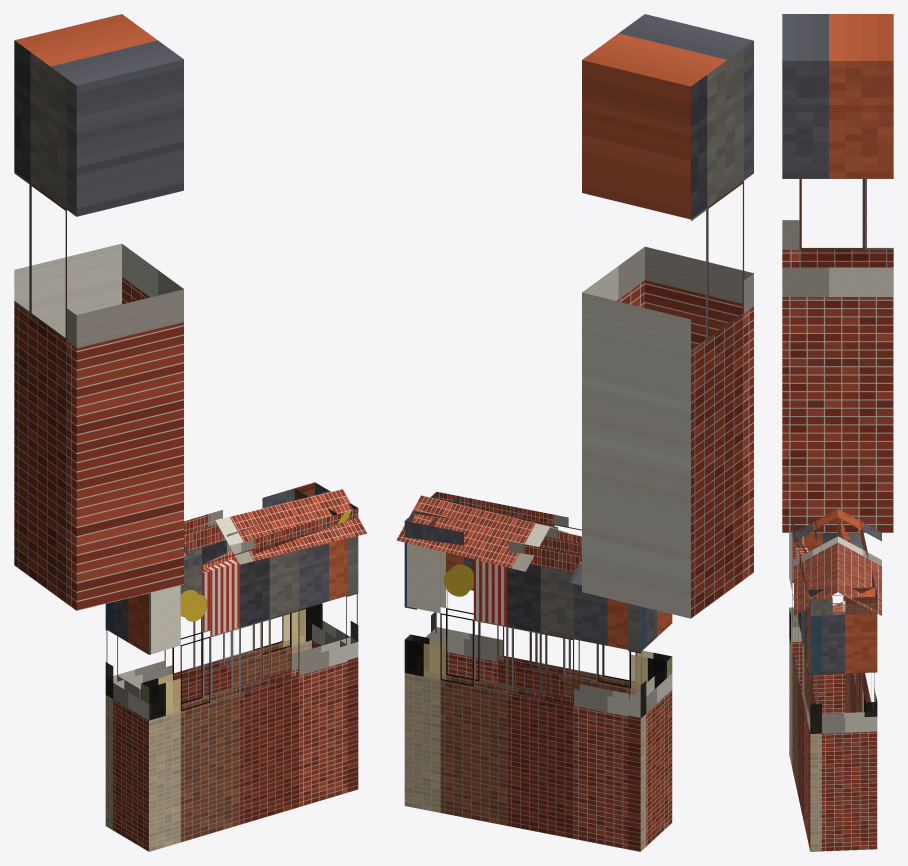
The picture shows the model from 3 angles, left to right: view 1: azimuth 30°, elevation 25°; view 2: azimuth 150°, elevation 25°; view 3: azimuth 270°, elevation 25°; orthographic projection. The views are drawn at different scales.
Visible parts, largest first — view 1: 238563126__chimney_0_xb, 238563126__wall_1_xb, 238563126__wall_3_xb, 238563126__wall_0_xb, 238563126_roof_-1_xb, 238563126__wall_2_xb, 238563126__cornice_1, 238563126__cornice_3, 238563126__wall_1_xf, 238563126__wall_3_xf; view 2: 238563126__chimney_0_xb, 238563126__wall_3_xb, 238563126__wall_1_xb, 238563126__wall_0_xb, 238563126_roof_1_xb, 238563126__cornice_3, 238563126__wall_3_xf, 238563126__cornice_1, 238563126__wall_1_xf; view 3: 238563126__chimney_0_xb, 238563126__wall_2_xb, 238563126__wall_1_xb, 238563126_roof_-1_xb, 238563126_roof_1_xb, 238563126__wall_0_xb, 238563126__wall_3_xb, 238563126__wall_1_xf, 238563126__cornice_2, 238563126__cornice_1, 238563126__cornice_3, 238563126__wall_3_xf.
Boxes of the visible parts, x1,y1,x2,y2 form: 238563126__chimney_0_xb: (14,14,183,610); 238563126__wall_1_xb: (141,538,358,851); 238563126__wall_3_xb: (105,540,322,830); 238563126__wall_0_xb: (105,593,150,851); 238563126_roof_-1_xb: (184,489,367,575); 238563126__wall_2_xb: (312,536,358,792); 238563126__cornice_1: (184,508,358,578); 238563126__cornice_3: (184,482,329,551); 238563126__wall_1_xf: (141,593,356,719); 238563126__wall_3_xf: (106,602,322,698); 238563126__chimney_0_xb: (582,14,753,618); 238563126__wall_3_xb: (404,542,646,851); 238563126__wall_1_xb: (431,542,672,698); 238563126__wall_0_xb: (628,603,672,851); 238563126_roof_1_xb: (396,495,581,585); 238563126__cornice_3: (404,511,581,572); 238563126__wall_3_xf: (405,543,645,717); 238563126__cornice_1: (436,492,581,543); 238563126__wall_1_xf: (431,613,671,688); 238563126__chimney_0_xb: (782,14,893,532); 238563126__wall_2_xb: (809,612,877,851); 238563126__wall_1_xb: (789,533,821,851); 238563126_roof_-1_xb: (794,509,837,615); 238563126_roof_1_xb: (838,509,881,615); 238563126__wall_0_xb: (791,533,857,713); 238563126__wall_3_xb: (845,533,877,716); 238563126__wall_1_xf: (789,557,821,733); 238563126__cornice_2: (808,587,877,614); 238563126__cornice_1: (792,517,832,615); 238563126__cornice_3: (837,517,875,597); 238563126__wall_3_xf: (862,688,876,716).
Bounding box in the file's own units: 0.415 × 1.05 × 0.15.
Materials: 1 (1 with a texture image).
